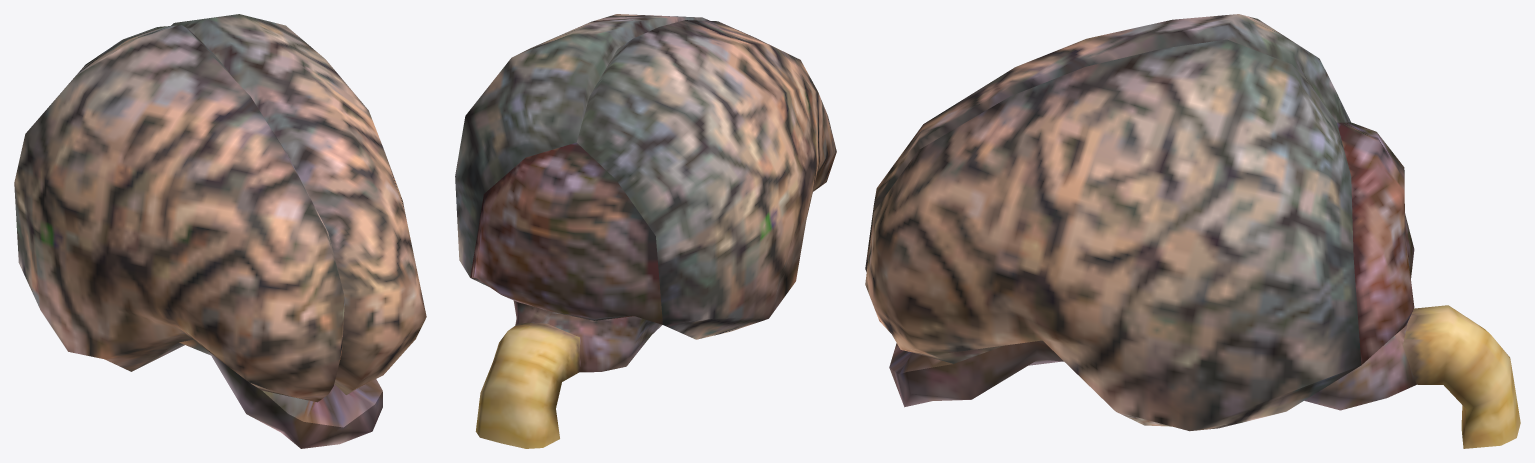
File: eqp_organ_brain_s02_l0.fbx
3 renders of one model, left to right at view 1: azimuth 30°, elevation 25°; view 2: azimuth 150°, elevation 25°; view 3: azimuth 270°, elevation 25°, orthographic. The views are drawn at different scales.
Parts seen in each view (by area): view 1: mesh_node; view 2: mesh_node; view 3: mesh_node.
Boxes of the visible parts, x1,y1,x2,y2 form: mesh_node: (14, 14, 426, 448); mesh_node: (455, 14, 836, 448); mesh_node: (865, 14, 1520, 448).
Size of the model in its own units: 0.1351 by 0.1485 by 0.2229.
